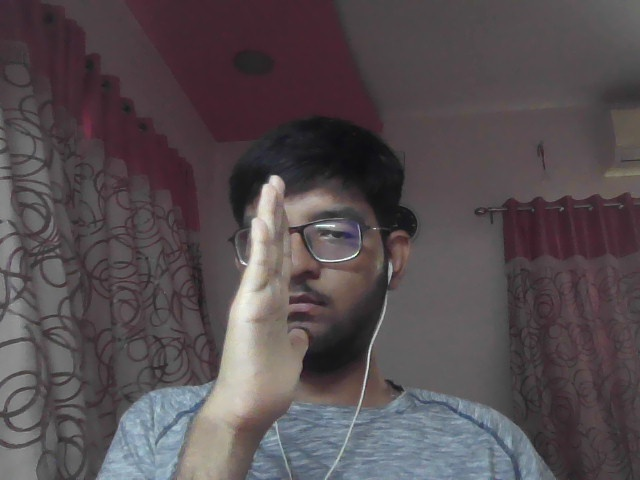માતા: (188, 166, 348, 451)
